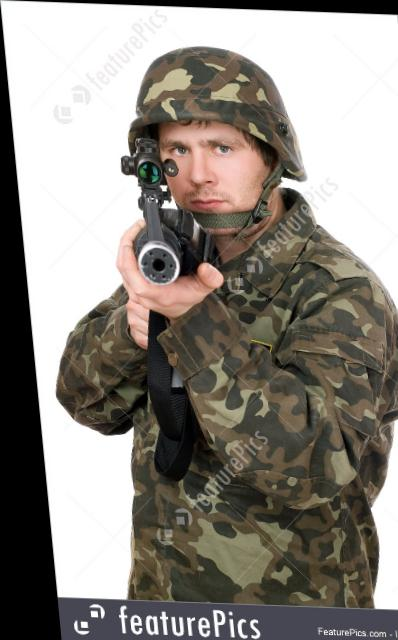other: (37, 58, 396, 611)
